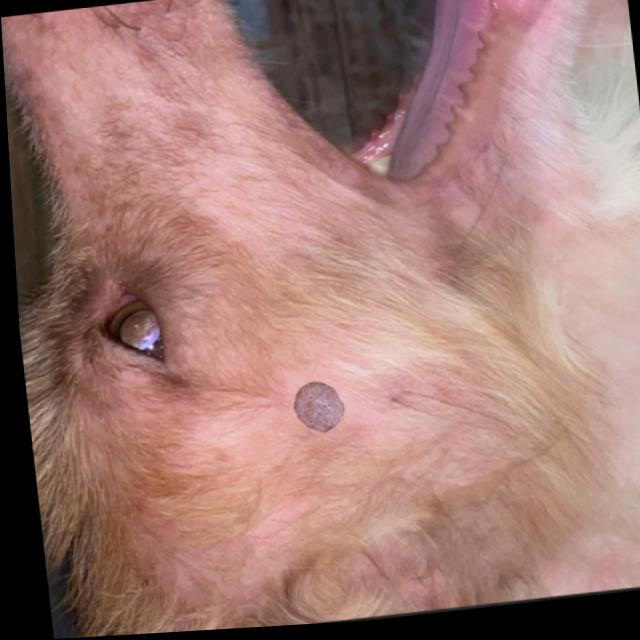ringworm: (262, 354, 364, 461)
